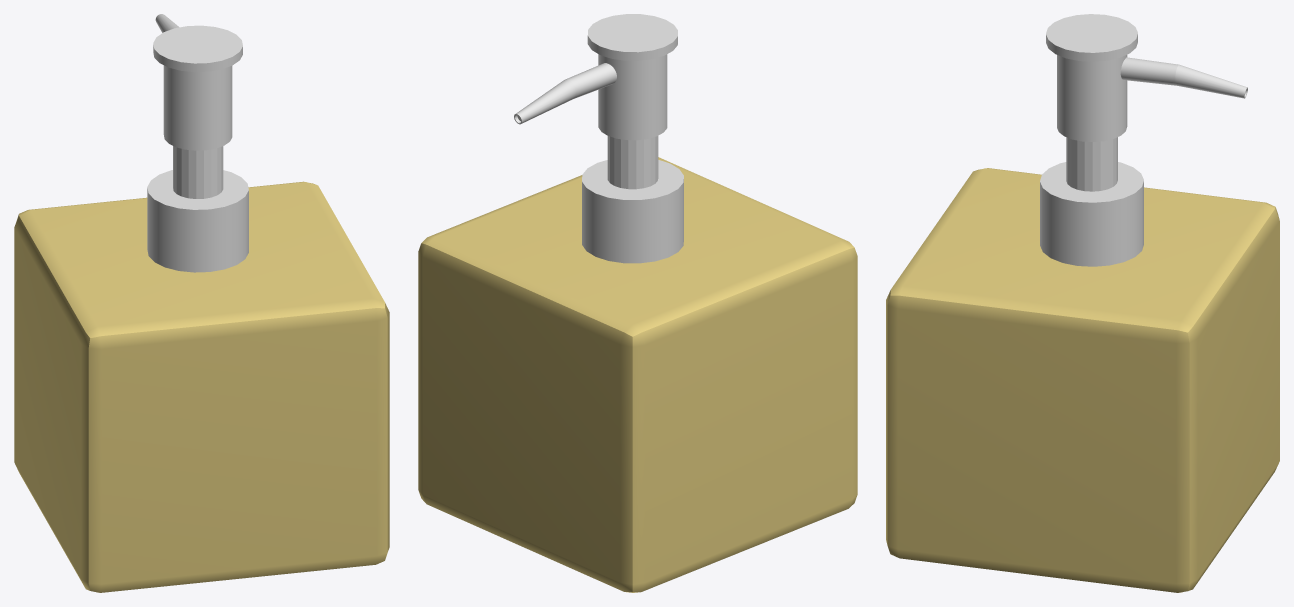
The model's file is soap.fbx.
The picture shows the model from 3 angles, left to right: view 1: azimuth 30°, elevation 25°; view 2: azimuth 150°, elevation 25°; view 3: azimuth 270°, elevation 25°; orthographic projection. The views are drawn at different scales.
Parts seen in each view (by area): view 1: pCylinder32; view 2: pCylinder32; view 3: pCylinder32.
Part boxes in pixels (x1,y1,x2,y2): pCylinder32: [14, 14, 389, 592]; pCylinder32: [418, 14, 857, 592]; pCylinder32: [886, 14, 1279, 592].
Size of the model in its own units: 1.07 by 1.45 by 1.07.
